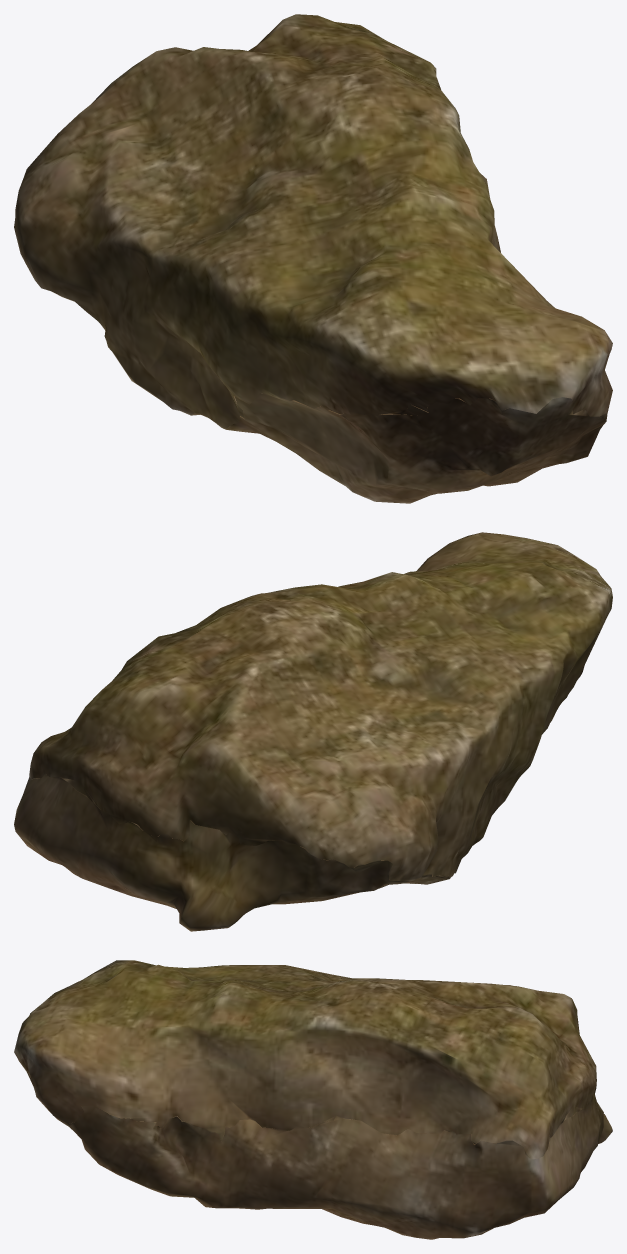
The model's file is scanned_boulder4.glb.
3 views of the same model, one above another, from view 1: azimuth 30°, elevation 25°; view 2: azimuth 150°, elevation 25°; view 3: azimuth 270°, elevation 25° (orthographic). The views are drawn at different scales.
Visible parts, largest first — view 1: scanned_boulder4; view 2: scanned_boulder4; view 3: scanned_boulder4.
Part boxes in pixels (left/top/right/bottom): scanned_boulder4: left=14, top=14, right=612, bottom=503; scanned_boulder4: left=14, top=532, right=612, bottom=931; scanned_boulder4: left=14, top=960, right=612, bottom=1239.
Bounding box in the file's own units: 1.82 × 1.21 × 3.01.
1 material, 1 textured.
